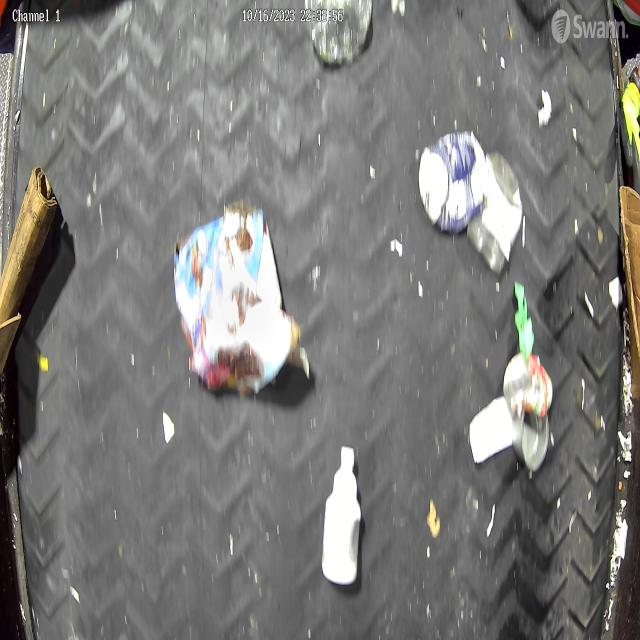can: (503, 353, 554, 424), (513, 412, 550, 472)
